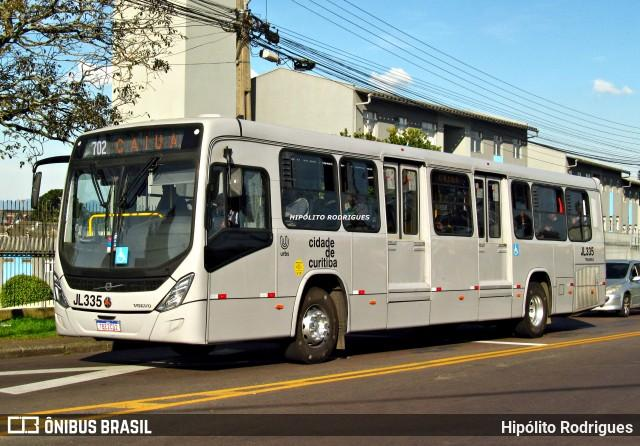CAIUA: (111, 129, 183, 154)
